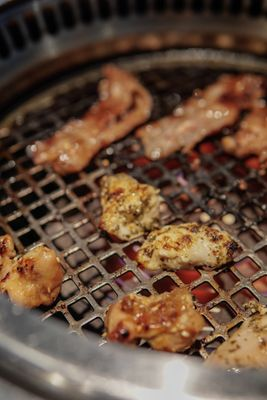burger: (1, 0, 263, 68)
